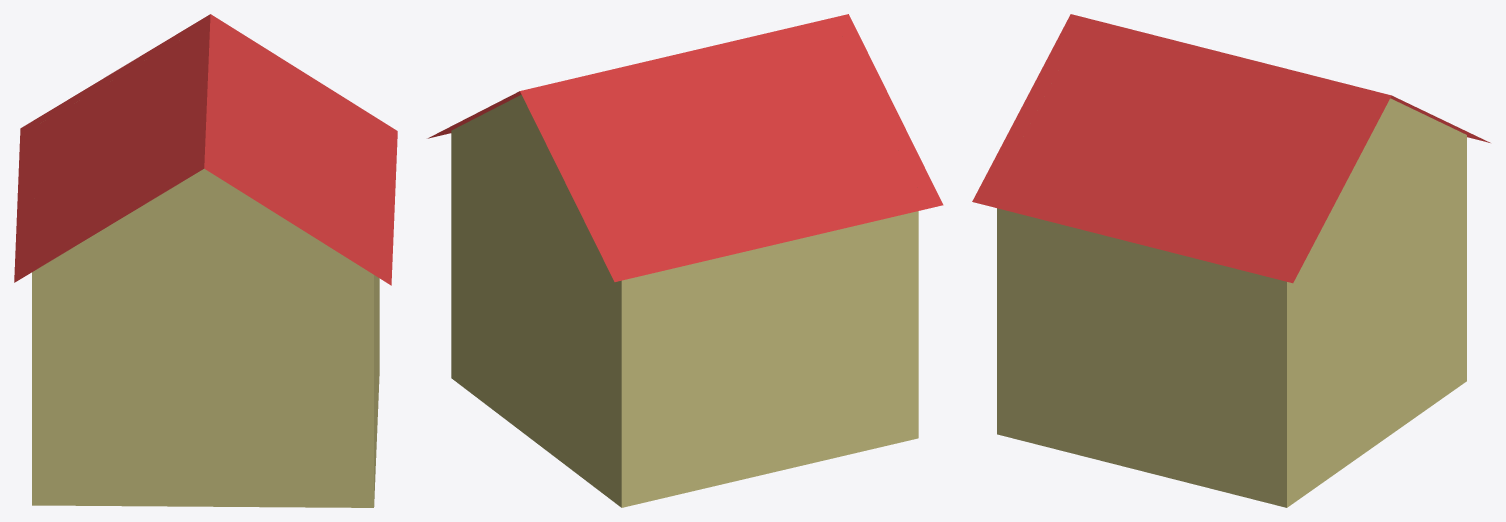
3 renders of one model, left to right at view 1: azimuth 30°, elevation 25°; view 2: azimuth 150°, elevation 25°; view 3: azimuth 270°, elevation 25°, orthographic. The views are drawn at different scales.
Size of the model in its own units: 14.47 by 14.36 by 10.78.
